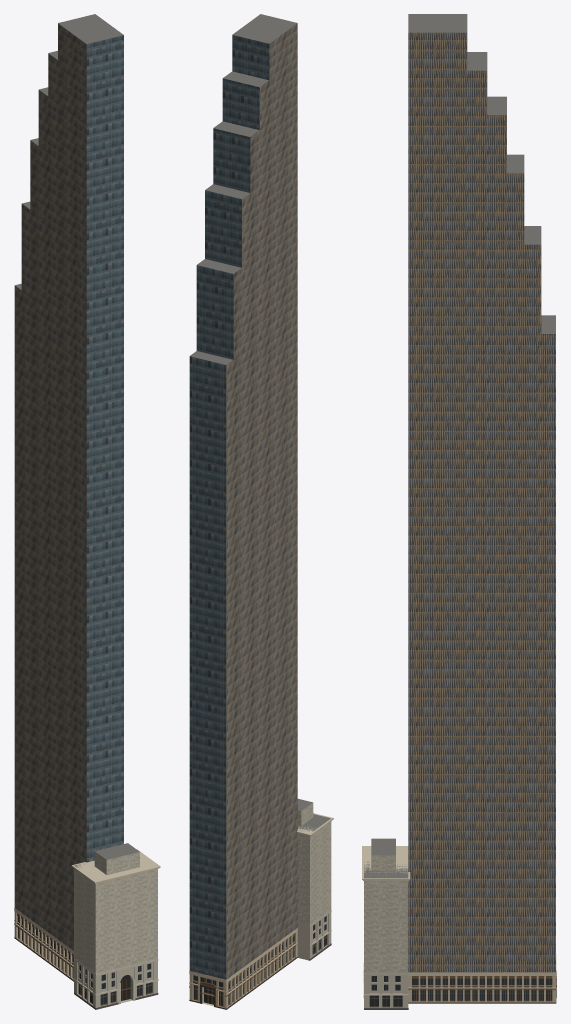
File: steinway_tower.glb
3 views of the same model, side by side, from view 1: azimuth 30°, elevation 25°; view 2: azimuth 150°, elevation 25°; view 3: azimuth 270°, elevation 25° (orthographic). The views are drawn at different scales.
Visible parts, largest first — view 1: steinway_tower; view 2: steinway_tower; view 3: steinway_tower.
Part boxes in pixels (x1,y1,x2,y2): steinway_tower: [14, 14, 160, 1009]; steinway_tower: [189, 14, 333, 1009]; steinway_tower: [362, 14, 556, 1009].
Size of the model in its own units: 31.6 by 435 by 79.07.
Materials: 4 (4 with a texture image).
